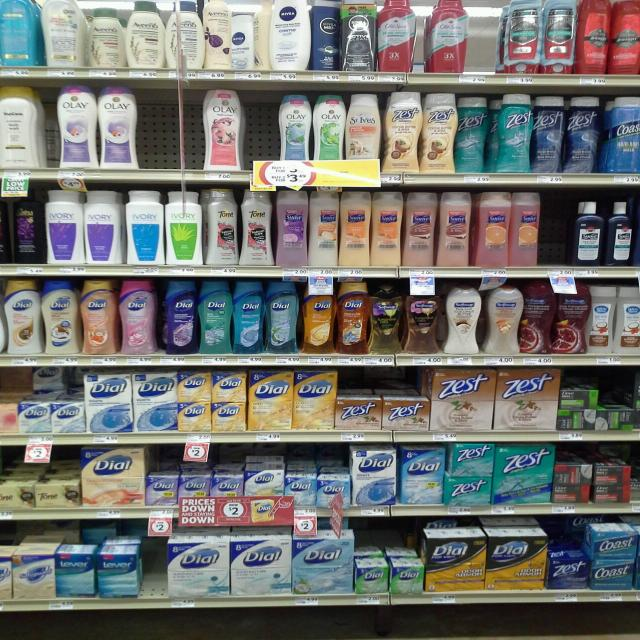void: (143, 95, 200, 167), (538, 196, 577, 267), (238, 96, 275, 161), (468, 0, 500, 75), (141, 544, 169, 598)
